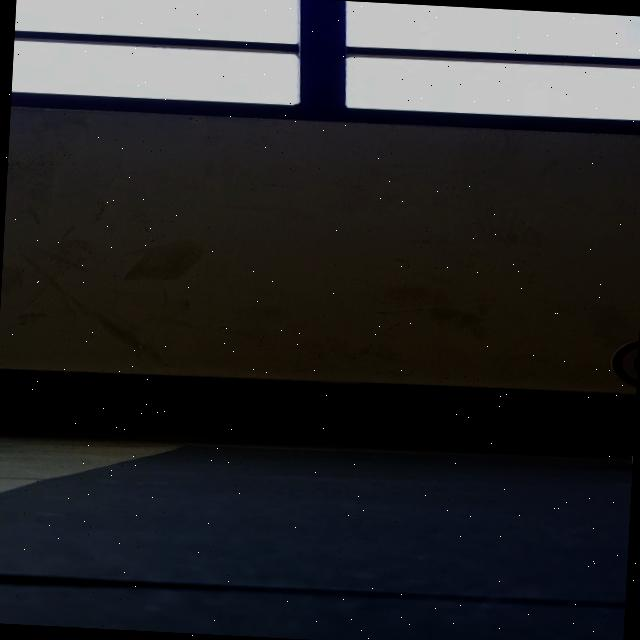Speed60: (604, 335, 640, 391)
